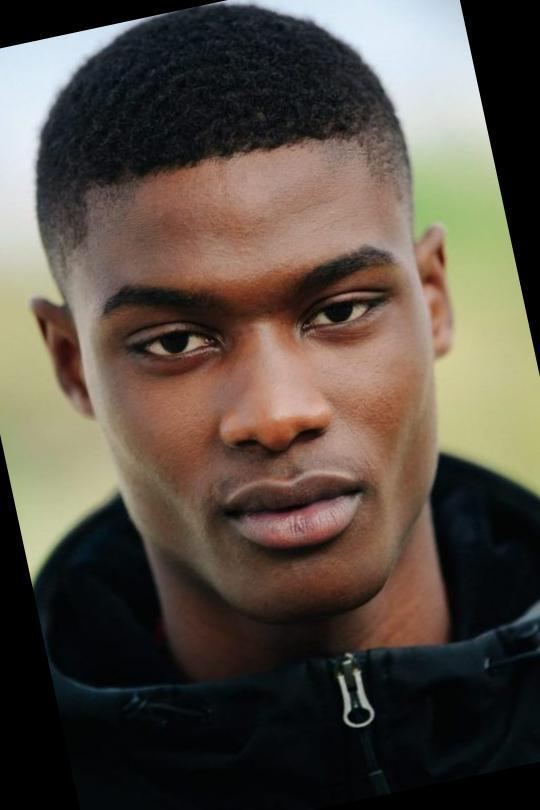Sober: (79, 182, 426, 573)
